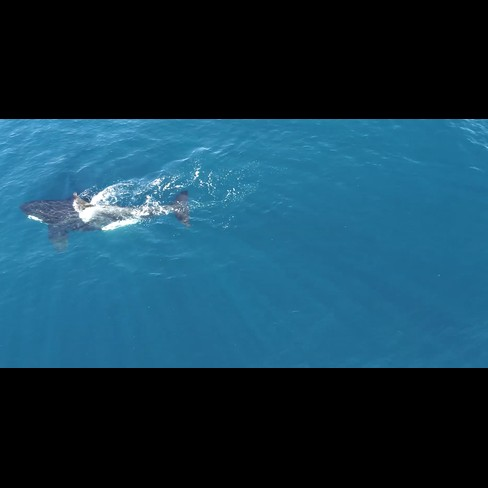orca: (15, 186, 204, 253)
